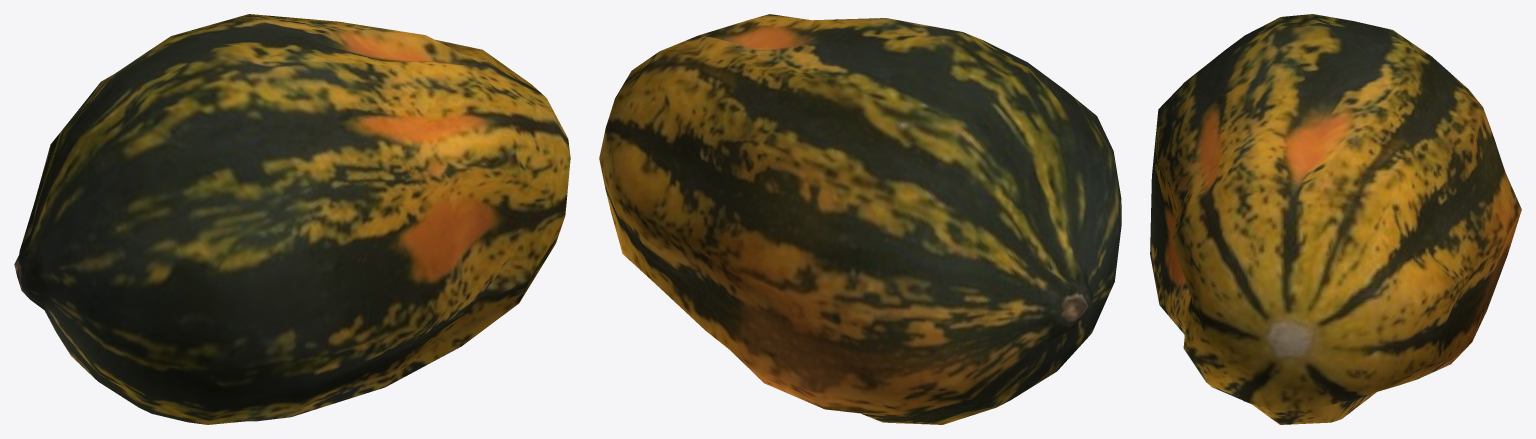
The model's file is A45_Squash_low.fbx.
3 renders of one model, left to right at view 1: azimuth 30°, elevation 25°; view 2: azimuth 150°, elevation 25°; view 3: azimuth 270°, elevation 25°, orthographic. The views are drawn at different scales.
Parts seen in each view (by area): view 1: A45_Squash_low; view 2: A45_Squash_low; view 3: A45_Squash_low.
Boxes of the visible parts, x1=… form: A45_Squash_low: x1=14, y1=14, x2=570, y2=424; A45_Squash_low: x1=599, y1=14, x2=1121, y2=424; A45_Squash_low: x1=1150, y1=14, x2=1521, y2=424.
Bounding box in the file's own units: 24.76 × 17.12 × 17.34.
Materials: 1 (1 with a texture image).
